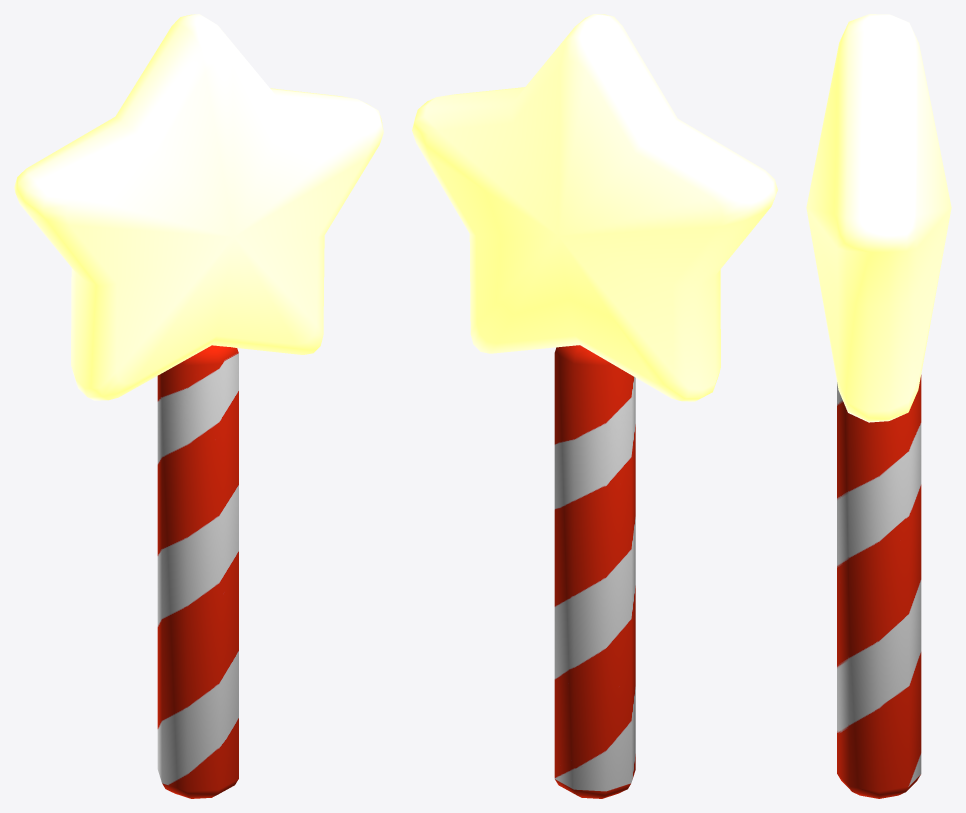
The model's file is Kirby_wand.glb.
3 views of the same model, side by side, from view 1: azimuth 30°, elevation 25°; view 2: azimuth 150°, elevation 25°; view 3: azimuth 270°, elevation 25° (orthographic).
Parts seen in each view (by area): view 1: Cylinder.003; view 2: Cylinder.003; view 3: Cylinder.003.
Part boxes in pixels (box(x1,y1,x2,y2)): Cylinder.003: box(14, 14, 383, 798); Cylinder.003: box(412, 14, 777, 798); Cylinder.003: box(806, 14, 951, 798).
Size of the model in its own units: 0.1449 by 0.3004 by 0.0512.
2 materials, 1 textured.
